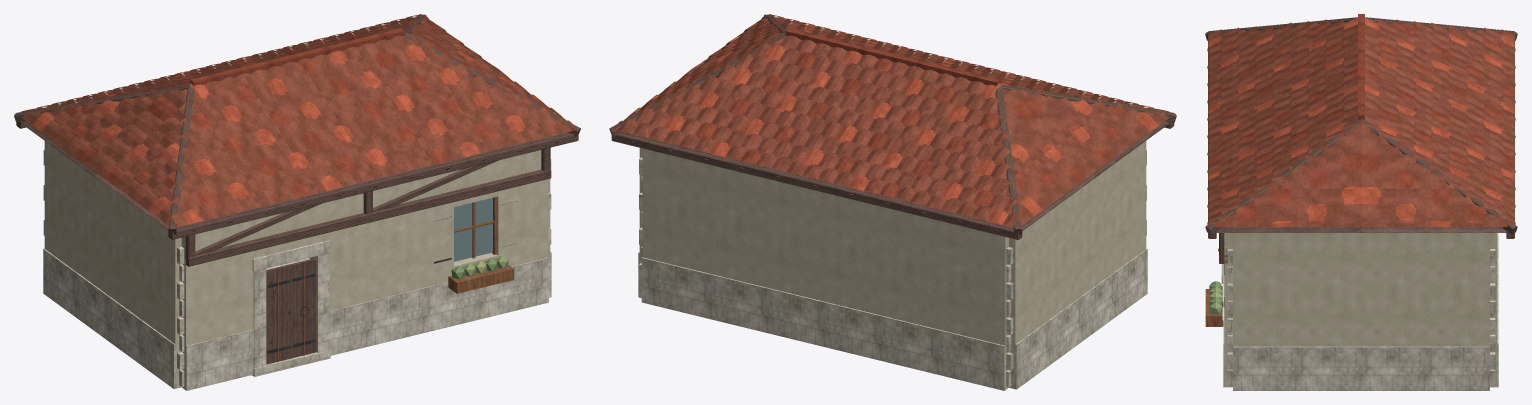
The model's file is B16_vivienda.glb.
The picture shows the model from 3 angles, left to right: view 1: azimuth 30°, elevation 25°; view 2: azimuth 150°, elevation 25°; view 3: azimuth 270°, elevation 25°; orthographic projection.
Visible parts, largest first — view 1: AUR034_B16_clay_tiles, AUR034_B16_lower_masonry, AUR034_B16_projecting_stone_plinth, AUR034_B16_entry_leaf0, AUR034_B16_fascia-1, AUR034_B16_sill, AUR034_B16_window0_glazing, AUR034_B16_ridge, AUR034_B16_roof_sheathing, AUR034_B16_entry_pier1, AUR034_B16_dressed_corner_stones, AUR034_B16_entry_pier-1 (+8 smaller); view 2: AUR034_B16_clay_tiles, AUR034_B16_lower_masonry, AUR034_B16_projecting_stone_plinth, AUR034_B16_fascia1, AUR034_B16_ridge, AUR034_B16_roof_sheathing, AUR034_B16_dressed_corner_stones, AUR034_B16_hip_rafter_-11, AUR034_B16_hip_rafter_-1-1, AUR034_B16_hip_rafter_11; view 3: AUR034_B16_clay_tiles, AUR034_B16_lower_masonry, AUR034_B16_projecting_stone_plinth, AUR034_B16_roof_sheathing, AUR034_B16_dressed_corner_stones, AUR034_B16_hip_rafter_1-1, AUR034_B16_hip_rafter_11, AUR034_B16_ridge, AUR034_B16_hip_rafter_-1-1, AUR034_B16_hip_rafter_-11, AUR034_B16_flower_box0.
Boxes of the visible parts, x1,y1,x2,y2 form: AUR034_B16_clay_tiles: [20, 14, 575, 227]; AUR034_B16_lower_masonry: [44, 141, 550, 389]; AUR034_B16_projecting_stone_plinth: [43, 248, 551, 390]; AUR034_B16_entry_leaf0: [266, 258, 316, 364]; AUR034_B16_fascia-1: [168, 132, 578, 239]; AUR034_B16_sill: [186, 169, 551, 266]; AUR034_B16_window0_glazing: [454, 197, 492, 261]; AUR034_B16_ridge: [190, 28, 404, 85]; AUR034_B16_roof_sheathing: [21, 27, 478, 230]; AUR034_B16_entry_pier1: [311, 253, 329, 352]; AUR034_B16_dressed_corner_stones: [43, 149, 551, 386]; AUR034_B16_entry_pier-1: [253, 268, 266, 368]; AUR034_B16_clay_tiles: [614, 14, 1170, 227]; AUR034_B16_lower_masonry: [639, 141, 1146, 389]; AUR034_B16_projecting_stone_plinth: [638, 249, 1147, 390]; AUR034_B16_fascia1: [611, 133, 1022, 239]; AUR034_B16_ridge: [785, 28, 1000, 85]; AUR034_B16_roof_sheathing: [622, 46, 1169, 230]; AUR034_B16_dressed_corner_stones: [639, 150, 1146, 387]; AUR034_B16_hip_rafter_-11: [995, 86, 1021, 235]; AUR034_B16_hip_rafter_-1-1: [1001, 84, 1176, 122]; AUR034_B16_hip_rafter_11: [609, 33, 786, 137]; AUR034_B16_clay_tiles: [1208, 17, 1514, 227]; AUR034_B16_lower_masonry: [1224, 233, 1497, 387]; AUR034_B16_projecting_stone_plinth: [1223, 233, 1498, 390]; AUR034_B16_roof_sheathing: [1216, 226, 1506, 232]; AUR034_B16_dressed_corner_stones: [1227, 249, 1495, 385]; AUR034_B16_hip_rafter_1-1: [1205, 119, 1361, 234]; AUR034_B16_hip_rafter_11: [1361, 119, 1517, 234]; AUR034_B16_ridge: [1358, 14, 1364, 119]; AUR034_B16_hip_rafter_-1-1: [1205, 17, 1357, 40]; AUR034_B16_hip_rafter_-11: [1365, 17, 1517, 40]; AUR034_B16_flower_box0: [1205, 289, 1222, 326].
Bounding box in the file's own units: 9.11 × 5.1 × 6.08.
13 materials, 9 textured.
